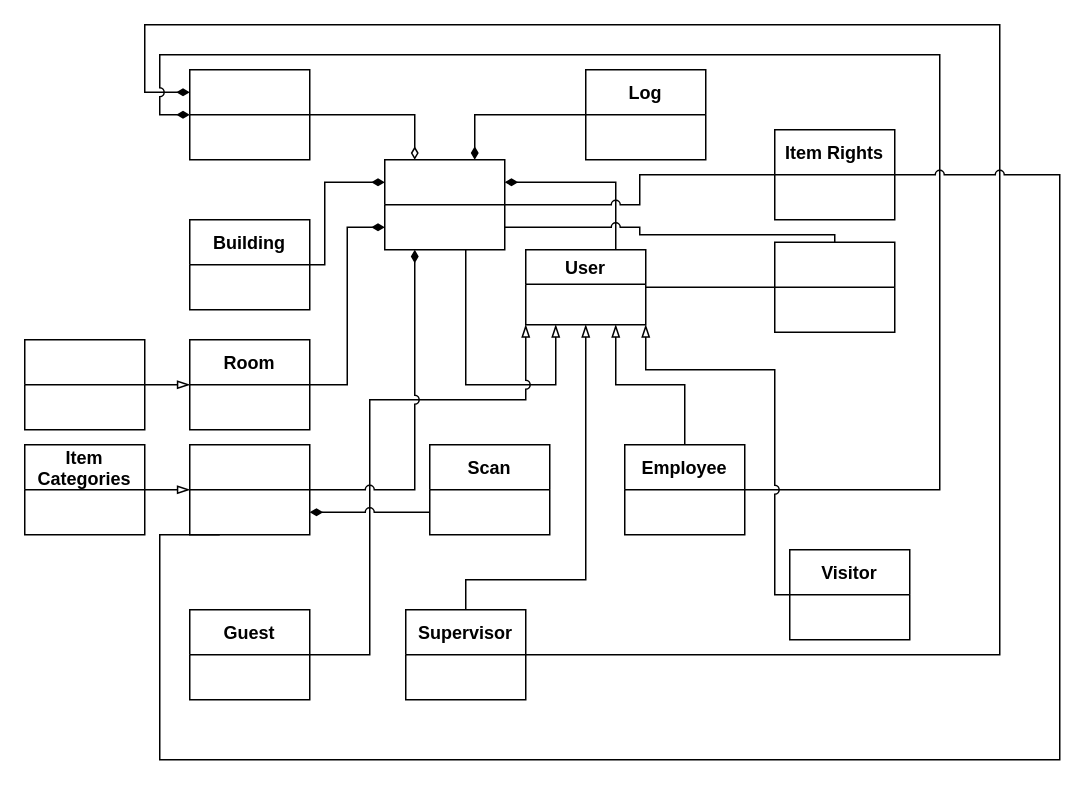
Image size: 1085x785. Some labels were removed from this diagram. The shapes that lost their labels are listed below. From the top down, each one's centre as x and y in pixels, then its label:
(x=249, y=114): Moves
(x=444, y=204): Admin
(x=834, y=286): Role Rights
(x=84, y=384): Room Categories
(x=249, y=489): Item
